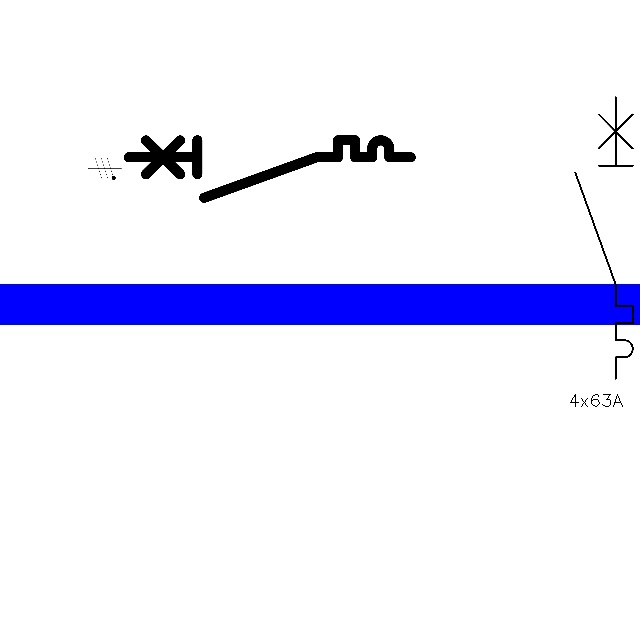interruptor_termomagnetico: (568, 90, 640, 386), (121, 133, 417, 205)
